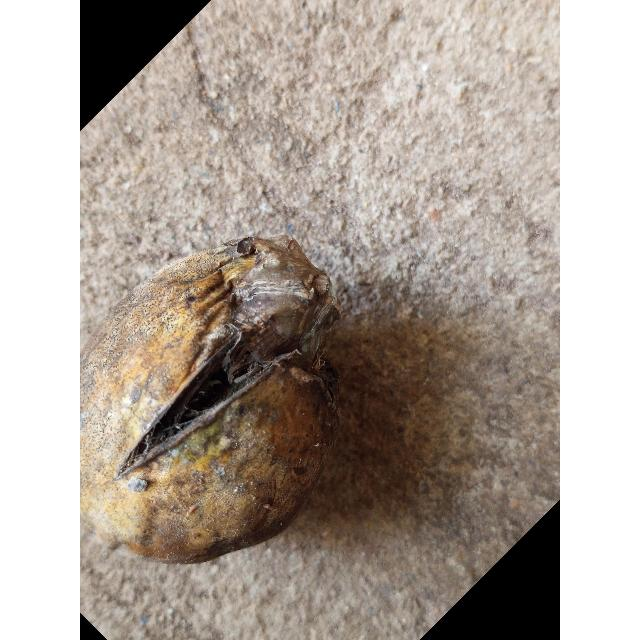damaged: (80, 234, 411, 570)
